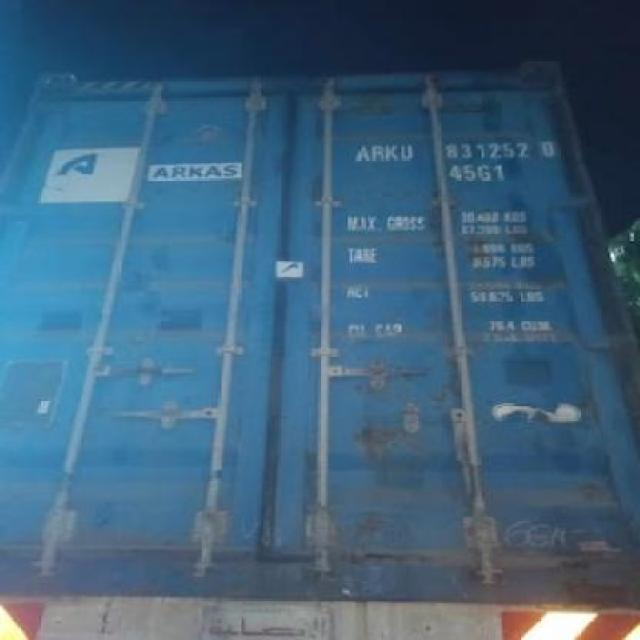ISO: (449, 162, 509, 184)
container_number: (361, 136, 548, 161)
